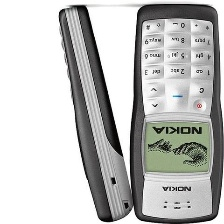phone: (126, 0, 224, 224), (56, 3, 136, 224)
